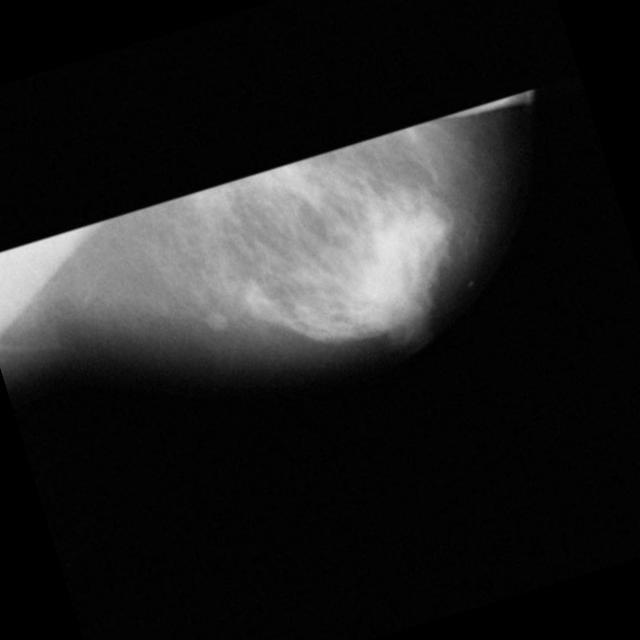ASYM: (250, 152, 294, 196)
